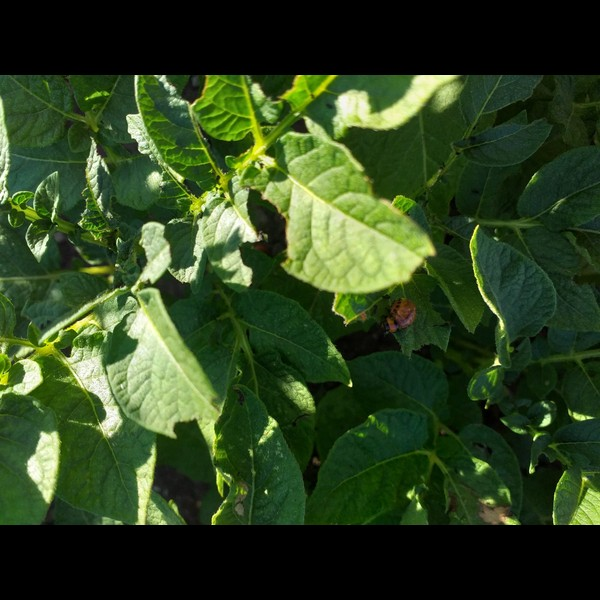hrosc: (382, 293, 418, 333)
